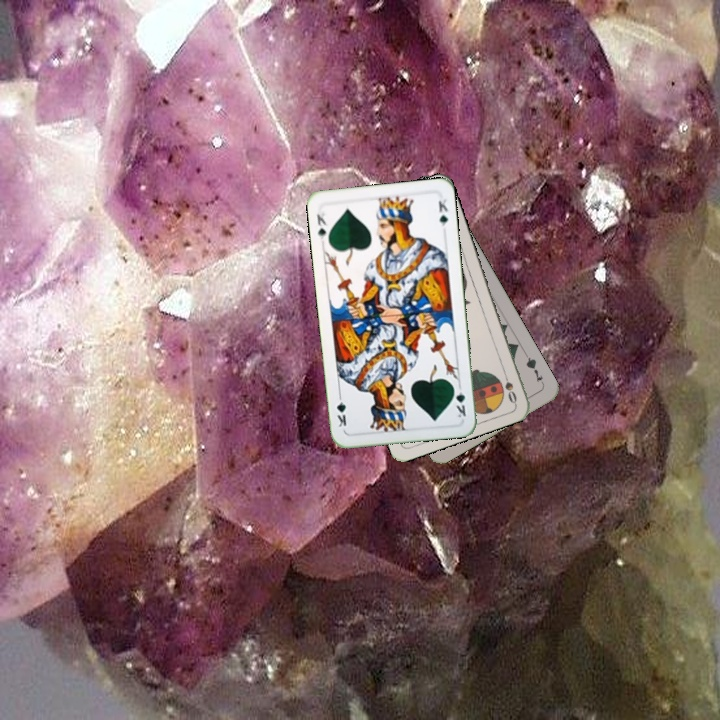G7: (521, 351, 545, 385)
GK: (449, 380, 468, 420), (313, 209, 330, 242)
SO: (499, 366, 519, 406)
